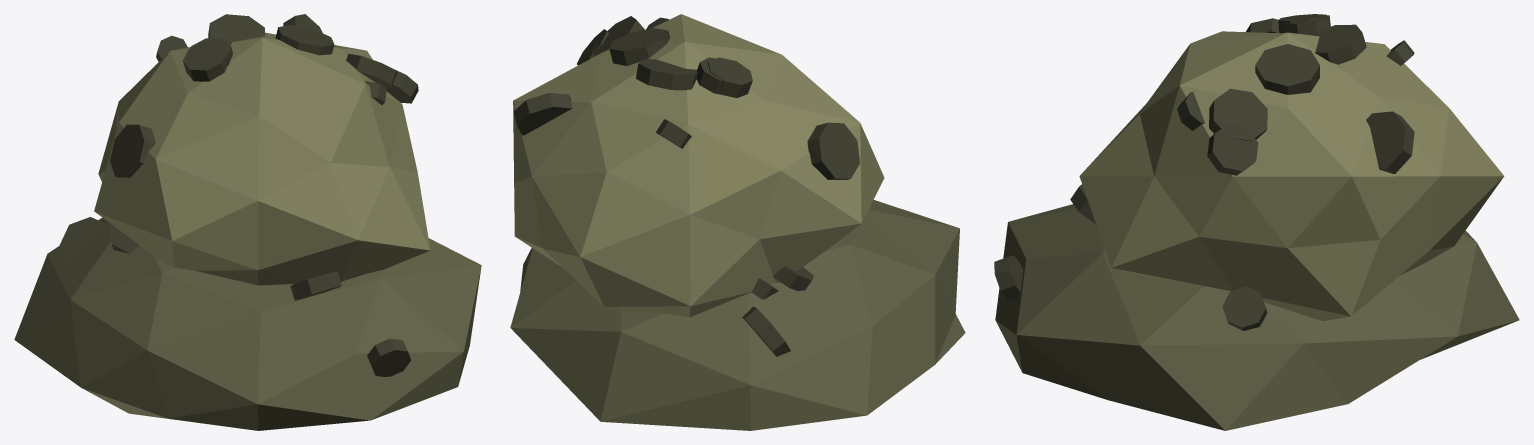
The model's file is vge_exo_hive.obj.
3 views of the same model, side by side, from view 1: azimuth 30°, elevation 25°; view 2: azimuth 150°, elevation 25°; view 3: azimuth 270°, elevation 25° (orthographic). The views are drawn at different scales.
Parts seen in each view (by area): view 1: vge_exo_hive_0, vge_exo_hive_10, vge_exo_hive_16, vge_exo_hive_14, vge_exo_hive_7, vge_exo_hive_18, vge_exo_hive_19, vge_exo_hive_9, vge_exo_hive_20, vge_exo_hive_3, vge_exo_hive_13, vge_exo_hive_5; view 2: vge_exo_hive_10, vge_exo_hive_0, vge_exo_hive_16, vge_exo_hive_19, vge_exo_hive_12, vge_exo_hive_18, vge_exo_hive_14, vge_exo_hive_9, vge_exo_hive_20, vge_exo_hive_5, vge_exo_hive_17, vge_exo_hive_15; view 3: vge_exo_hive_10, vge_exo_hive_0, vge_exo_hive_19, vge_exo_hive_20, vge_exo_hive_12, vge_exo_hive_13, vge_exo_hive_18, vge_exo_hive_8, vge_exo_hive_7, vge_exo_hive_11, vge_exo_hive_17.
Boxes of the visible parts, left/top/right/bottom form: vge_exo_hive_0: left=14, top=217, right=481, bottom=430; vge_exo_hive_10: left=94, top=32, right=430, bottom=285; vge_exo_hive_16: left=110, top=124, right=155, bottom=177; vge_exo_hive_14: left=183, top=41, right=228, bottom=81; vge_exo_hive_7: left=367, top=338, right=411, bottom=376; vge_exo_hive_18: left=208, top=14, right=264, bottom=45; vge_exo_hive_19: left=275, top=25, right=334, bottom=55; vge_exo_hive_9: left=59, top=217, right=107, bottom=263; vge_exo_hive_20: left=346, top=53, right=397, bottom=87; vge_exo_hive_3: left=290, top=271, right=341, bottom=300; vge_exo_hive_13: left=384, top=70, right=418, bottom=103; vge_exo_hive_5: left=108, top=224, right=139, bottom=253; vge_exo_hive_10: left=513, top=14, right=884, bottom=317; vge_exo_hive_0: left=510, top=200, right=965, bottom=430; vge_exo_hive_16: left=807, top=122, right=859, bottom=179; vge_exo_hive_19: left=609, top=28, right=670, bottom=65; vge_exo_hive_12: left=513, top=93, right=572, bottom=135; vge_exo_hive_18: left=636, top=59, right=697, bottom=90; vge_exo_hive_14: left=708, top=57, right=752, bottom=97; vge_exo_hive_9: left=742, top=306, right=790, bottom=356; vge_exo_hive_20: left=591, top=16, right=644, bottom=55; vge_exo_hive_5: left=773, top=266, right=813, bottom=291; vge_exo_hive_17: left=696, top=57, right=722, bottom=94; vge_exo_hive_15: left=656, top=119, right=691, bottom=148; vge_exo_hive_10: left=1079, top=31, right=1504, bottom=321; vge_exo_hive_0: left=995, top=204, right=1519, bottom=430; vge_exo_hive_19: left=1255, top=44, right=1319, bottom=94; vge_exo_hive_20: left=1209, top=88, right=1267, bottom=141; vge_exo_hive_12: left=1366, top=111, right=1414, bottom=173; vge_exo_hive_13: left=1207, top=123, right=1258, bottom=175; vge_exo_hive_18: left=1310, top=24, right=1366, bottom=64; vge_exo_hive_8: left=1222, top=286, right=1266, bottom=330; vge_exo_hive_7: left=994, top=255, right=1023, bottom=301; vge_exo_hive_11: left=1177, top=92, right=1204, bottom=130; vge_exo_hive_17: left=1283, top=15, right=1330, bottom=35.
Size of the model in its own units: 1.19 by 0.8018 by 1.27.
